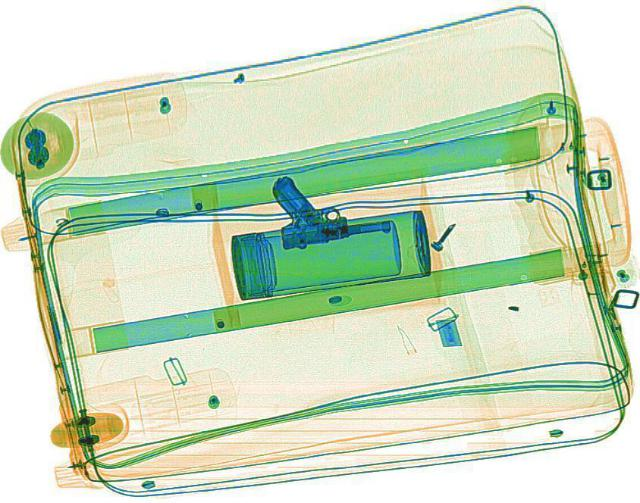Gun: (264, 164, 394, 249)
